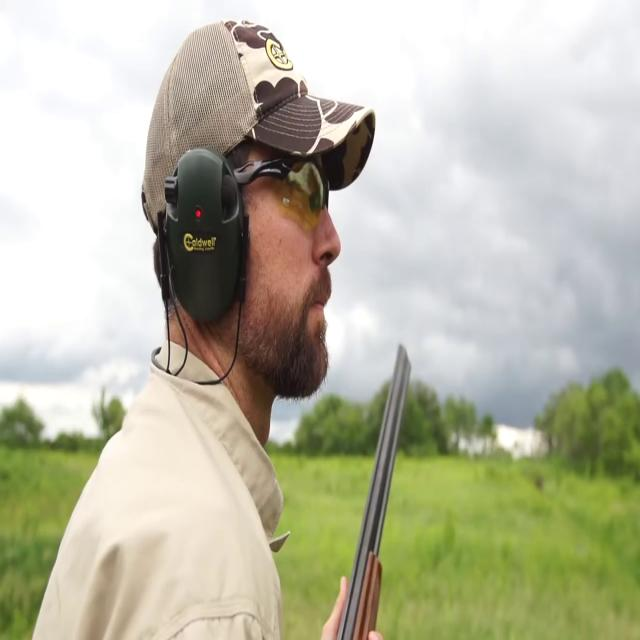earmuff: (155, 146, 251, 336)
glasses: (232, 151, 332, 235)
